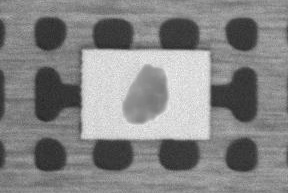DIE_INK: (123, 64, 167, 124)
